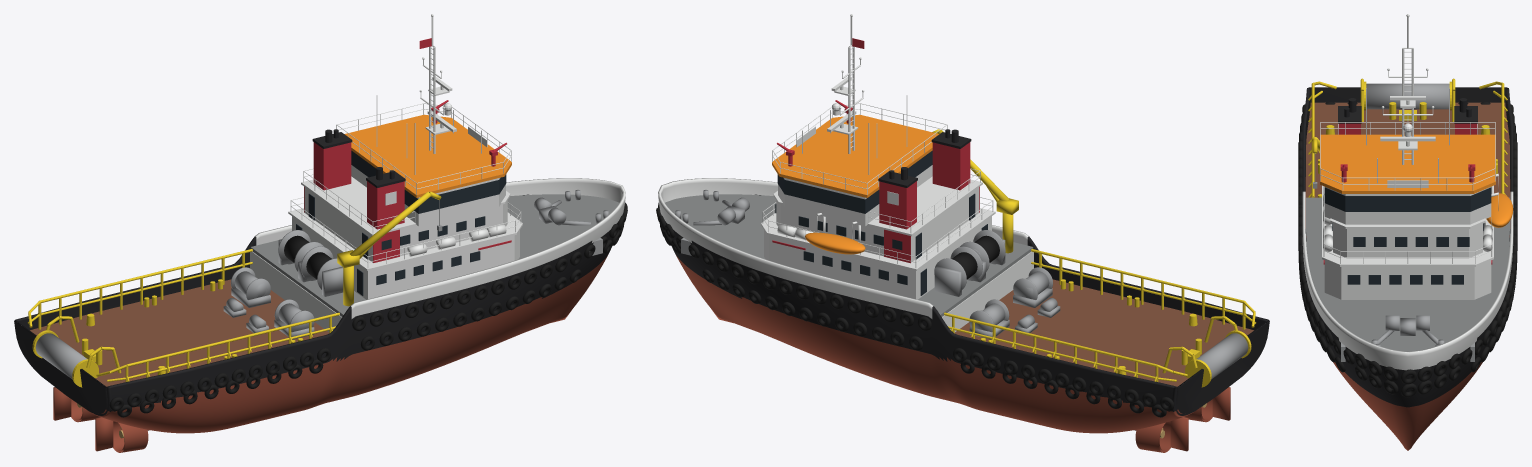
Rendered from tug-4.glb.
The picture shows the model from 3 angles, left to right: view 1: azimuth 30°, elevation 25°; view 2: azimuth 150°, elevation 25°; view 3: azimuth 270°, elevation 25°; orthographic projection. The views are drawn at different scales.
Visible parts, largest first — view 1: tug-4; view 2: tug-4; view 3: tug-4.
Part boxes in pixels (<box>): tug-4: <box>14,14,627,452</box>; tug-4: <box>656,14,1269,452</box>; tug-4: <box>1298,14,1517,450</box>.
Bounding box in the file's own units: 51.99 × 29.82 × 15.84.
